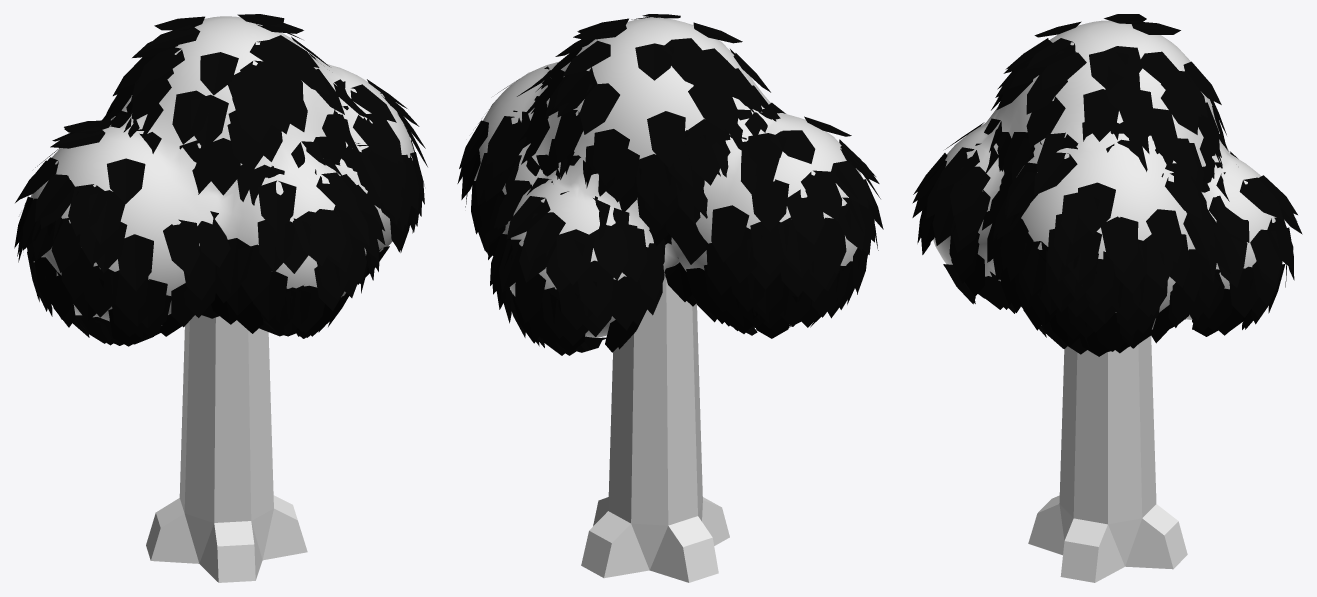
Rendered from Tree.glb.
3 renders of one model, left to right at view 1: azimuth 30°, elevation 25°; view 2: azimuth 150°, elevation 25°; view 3: azimuth 270°, elevation 25°, orthographic.
Visible parts, largest first — view 1: Sphere, Cylinder; view 2: Sphere, Cylinder; view 3: Sphere, Cylinder.
Part boxes in pixels (left/top/right/bottom): Sphere: left=14, top=14, right=427, bottom=346; Cylinder: left=146, top=315, right=307, bottom=582; Sphere: left=457, top=14, right=883, bottom=355; Cylinder: left=581, top=278, right=729, bottom=582; Sphere: left=912, top=14, right=1302, bottom=356; Cylinder: left=1028, top=335, right=1187, bottom=582.
Size of the model in its own units: 4.52 by 5.81 by 3.97.
1 material, 1 textured.
